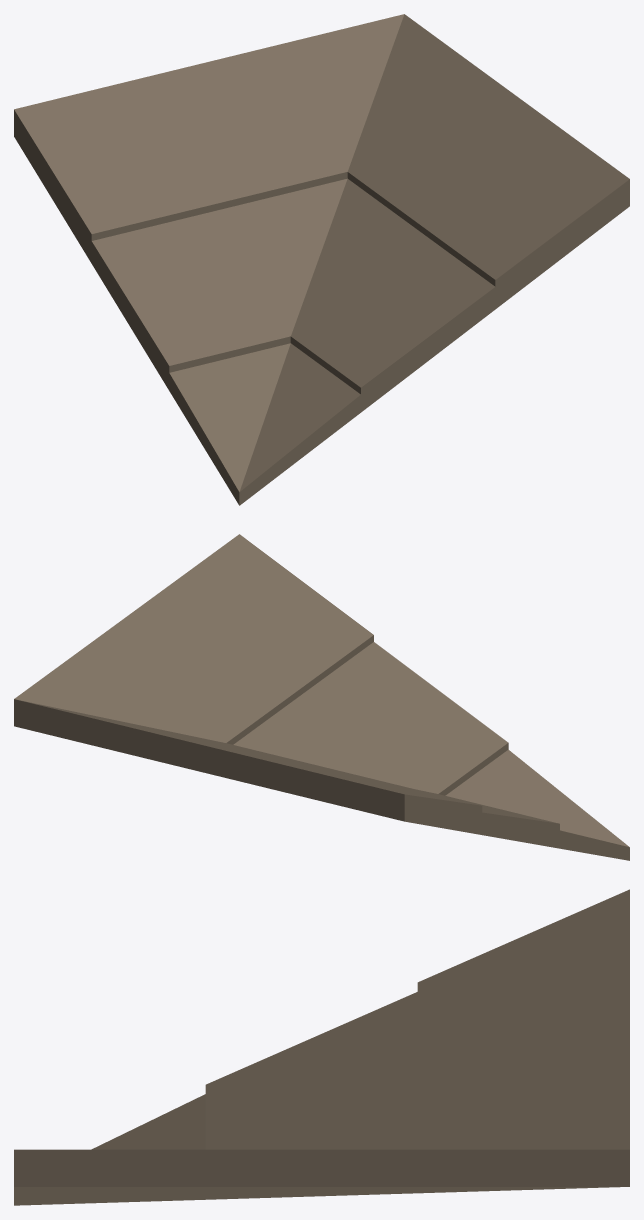
Rendered from steampunk_roof_metal_inner_corner.fbx.
The picture shows the model from 3 angles, top to bottom: view 1: azimuth 30°, elevation 25°; view 2: azimuth 150°, elevation 25°; view 3: azimuth 270°, elevation 25°; orthographic projection. The views are drawn at different scales.
Visible parts, largest first — view 1: Cube.050; view 2: Cube.050; view 3: Cube.050.
Part boxes in pixels (x1=…): Cube.050: x1=14, y1=14, x2=629, y2=505; Cube.050: x1=14, y1=534, x2=629, y2=860; Cube.050: x1=14, y1=889, x2=629, y2=1205.
Bounding box in the file's own units: 3 × 1.7 × 3.
